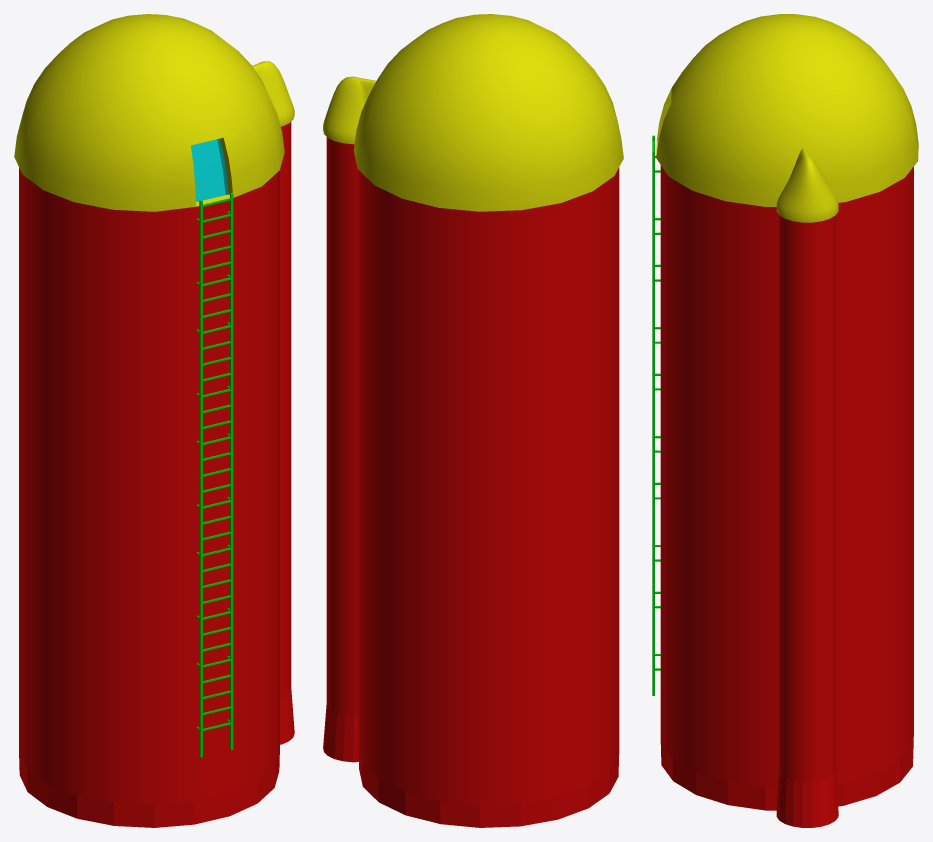
The model's file is Silo_V1.fbx.
3 renders of one model, left to right at view 1: azimuth 30°, elevation 25°; view 2: azimuth 150°, elevation 25°; view 3: azimuth 270°, elevation 25°, orthographic. The views are drawn at different scales.
Parts seen in each view (by area): view 1: Silo_V1; view 2: Silo_V1; view 3: Silo_V1.
Part boxes in pixels (x1,y1,x2,y2): Silo_V1: (14,14,294,827); Silo_V1: (323,14,623,827); Silo_V1: (652,14,918,827).
Bounding box in the file's own units: 528 × 1412 × 465.
